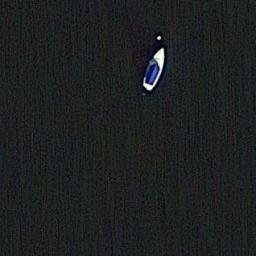boat: (139, 47, 167, 92)
